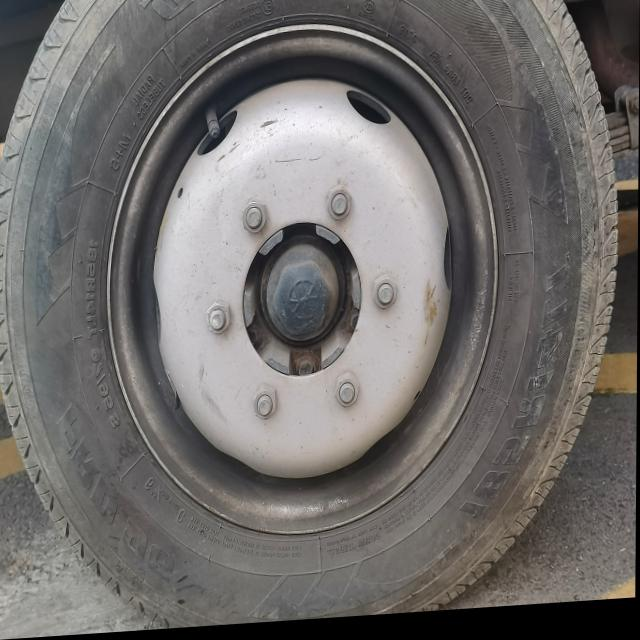Regular bolt: (207, 304, 232, 340), (255, 388, 278, 427), (329, 191, 355, 224), (375, 279, 398, 314), (245, 204, 268, 237), (337, 383, 359, 412), (298, 360, 318, 382)
